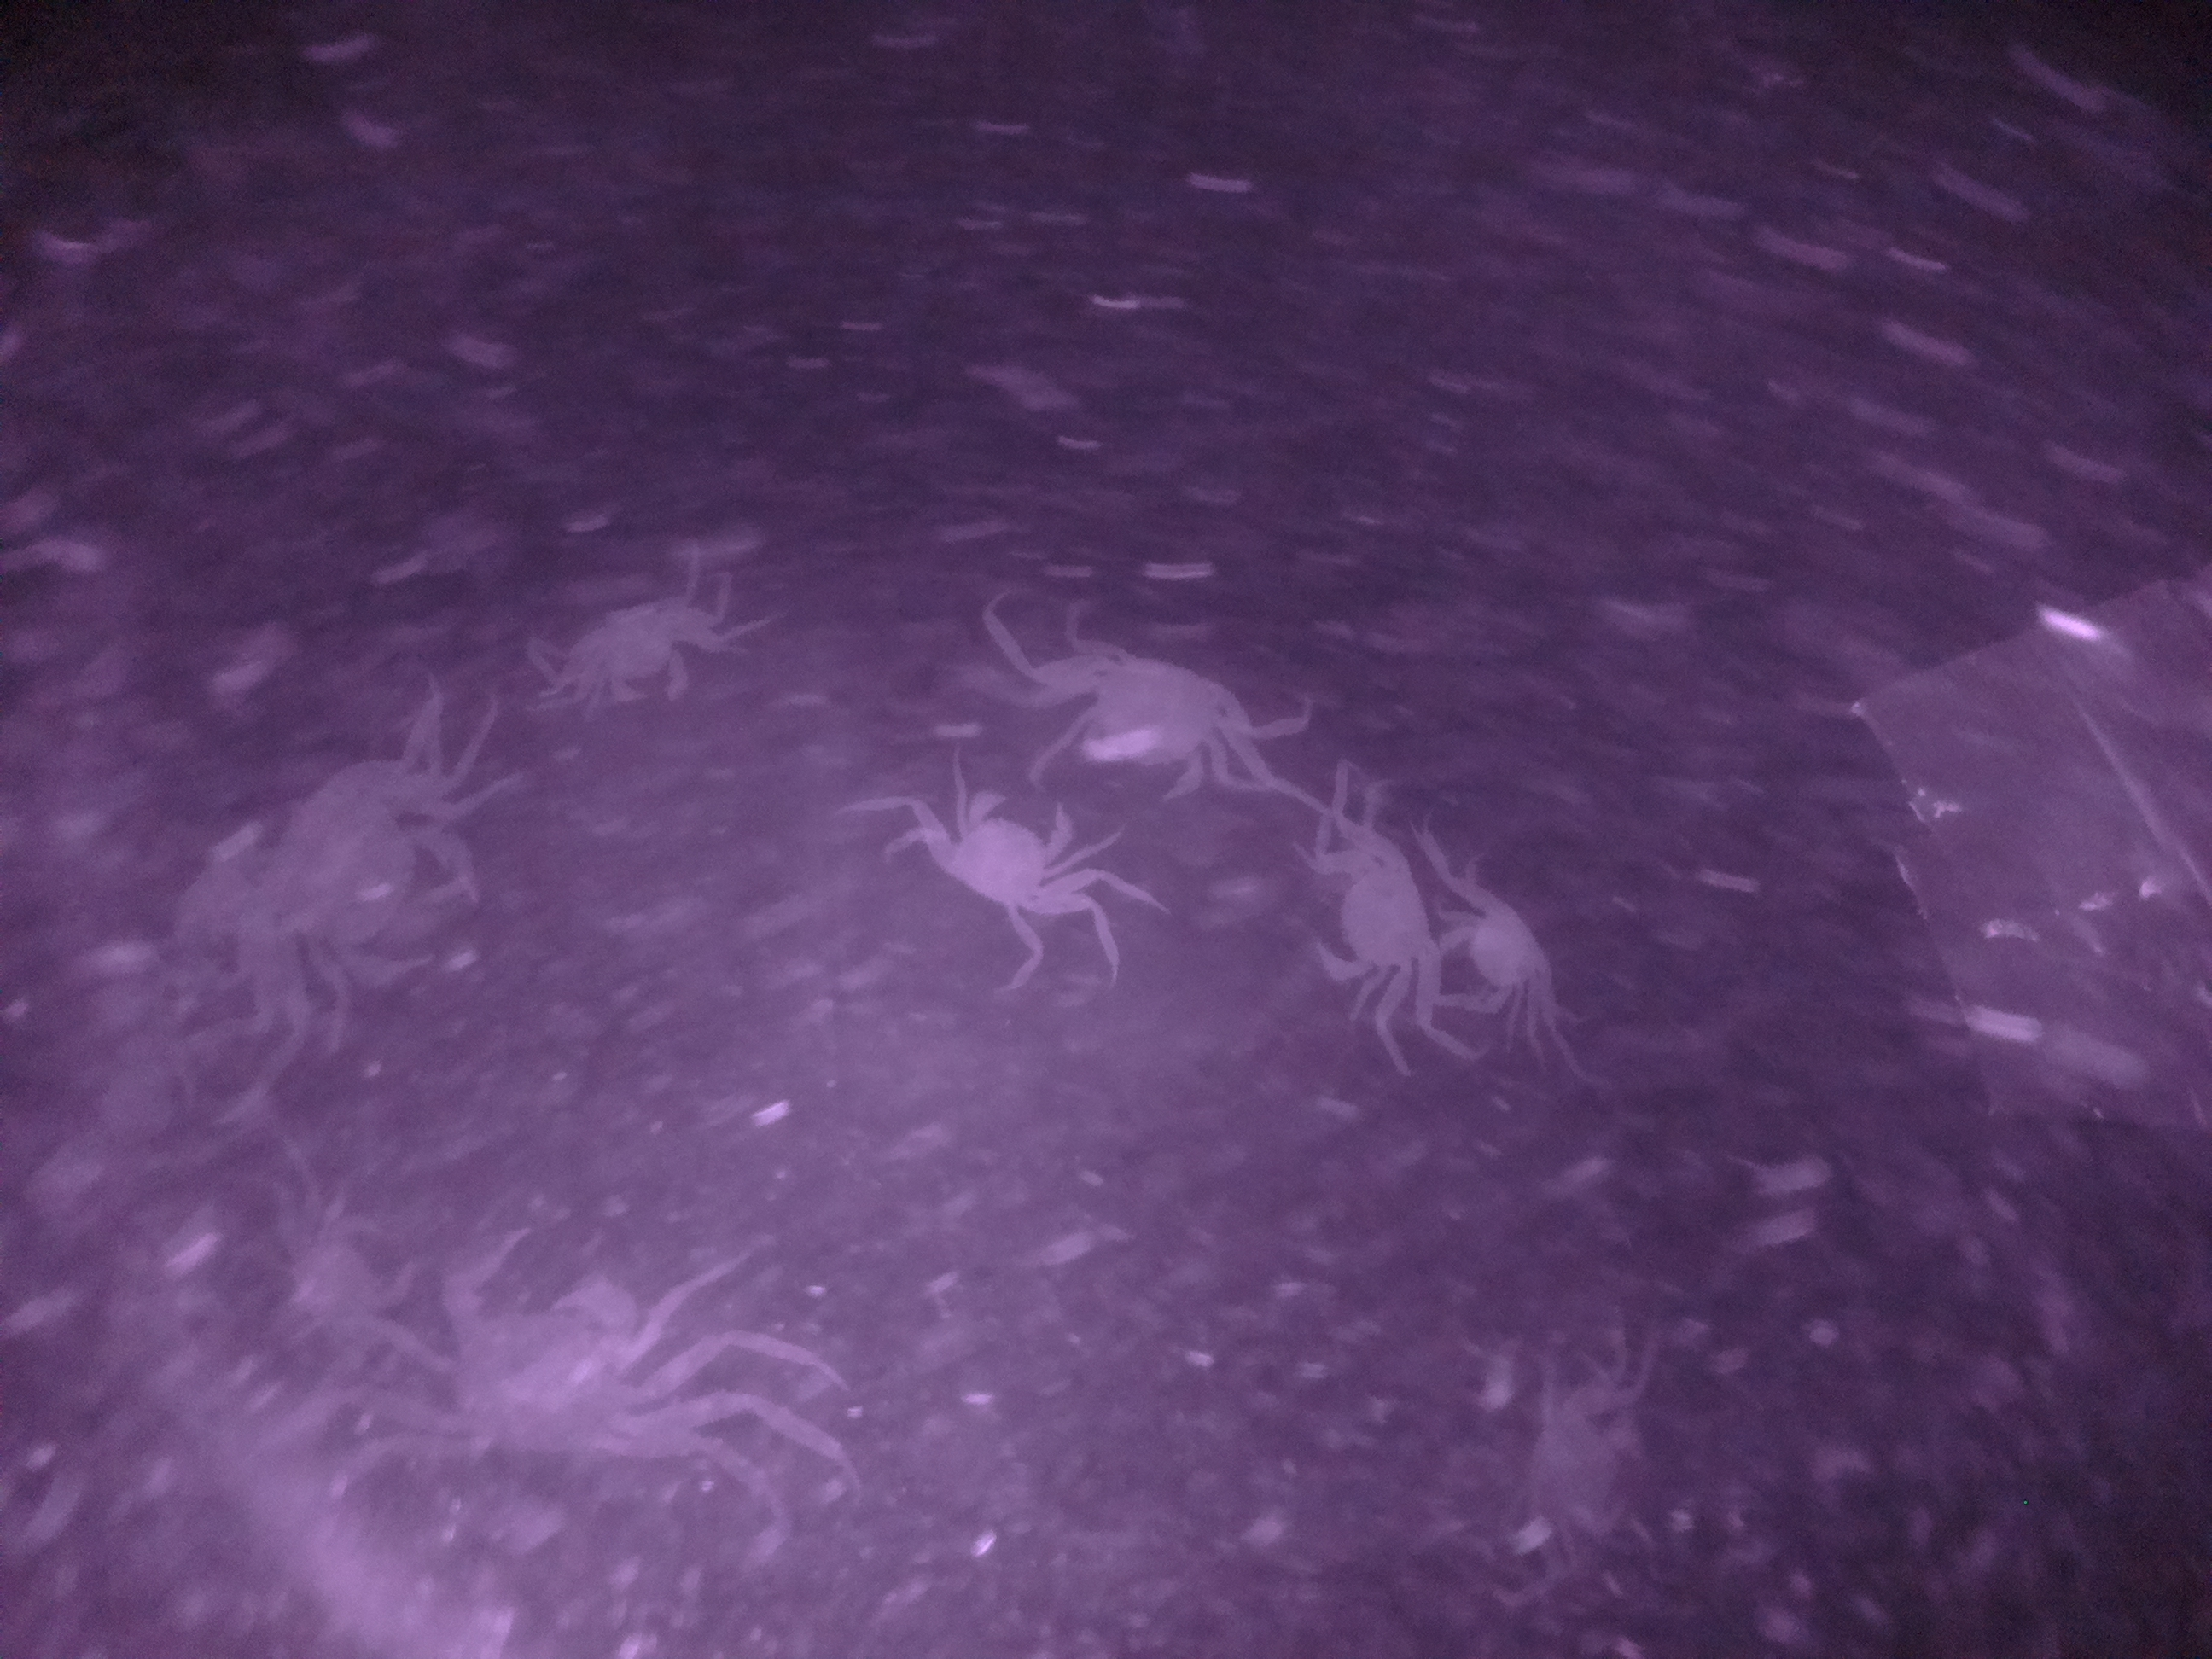Crab: (1024, 615, 1263, 829), (1275, 809, 1447, 999), (921, 777, 1080, 929), (1440, 870, 1569, 1030), (561, 580, 712, 708)
